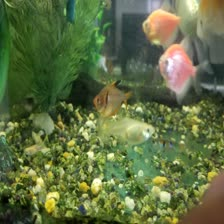Guppy: (98, 106, 159, 146)
Plano: (157, 38, 200, 90), (135, 4, 189, 43)
Transparente: (86, 71, 136, 116)
